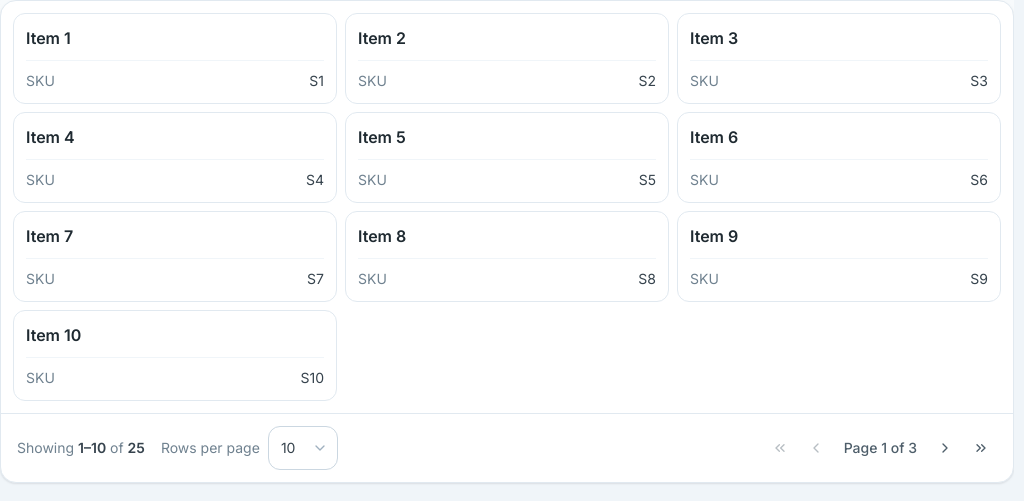
Test: DataTable — card view › pages with a readout instead of a row of page buttons
Check: the text "Page 1 of 3" is shown, box [844, 439, 917, 456]
Click the button named "Next page": (945, 448) [929, 432, 961, 464]
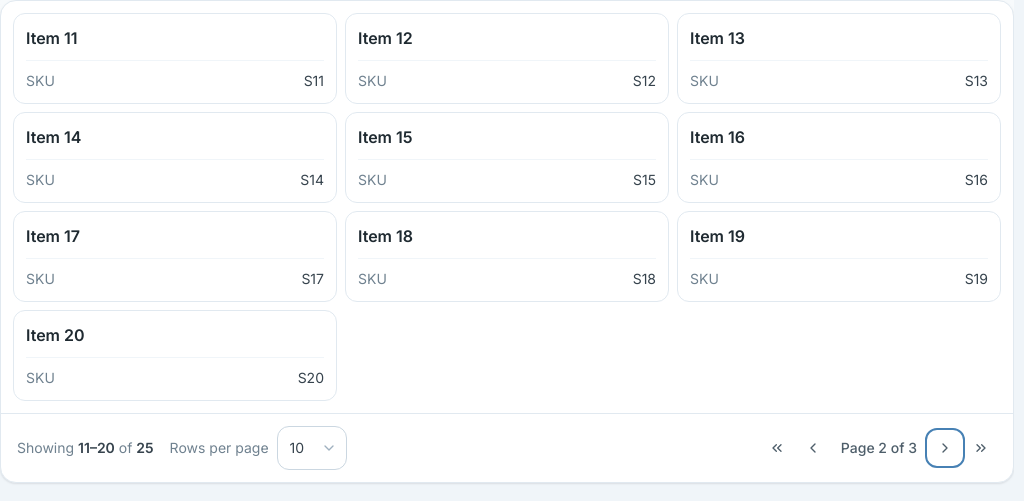
Check: the text "Page 2 of 3" is shown, box [841, 439, 917, 456]
Check: the text "Item 11" is shown, box [26, 28, 78, 48]
